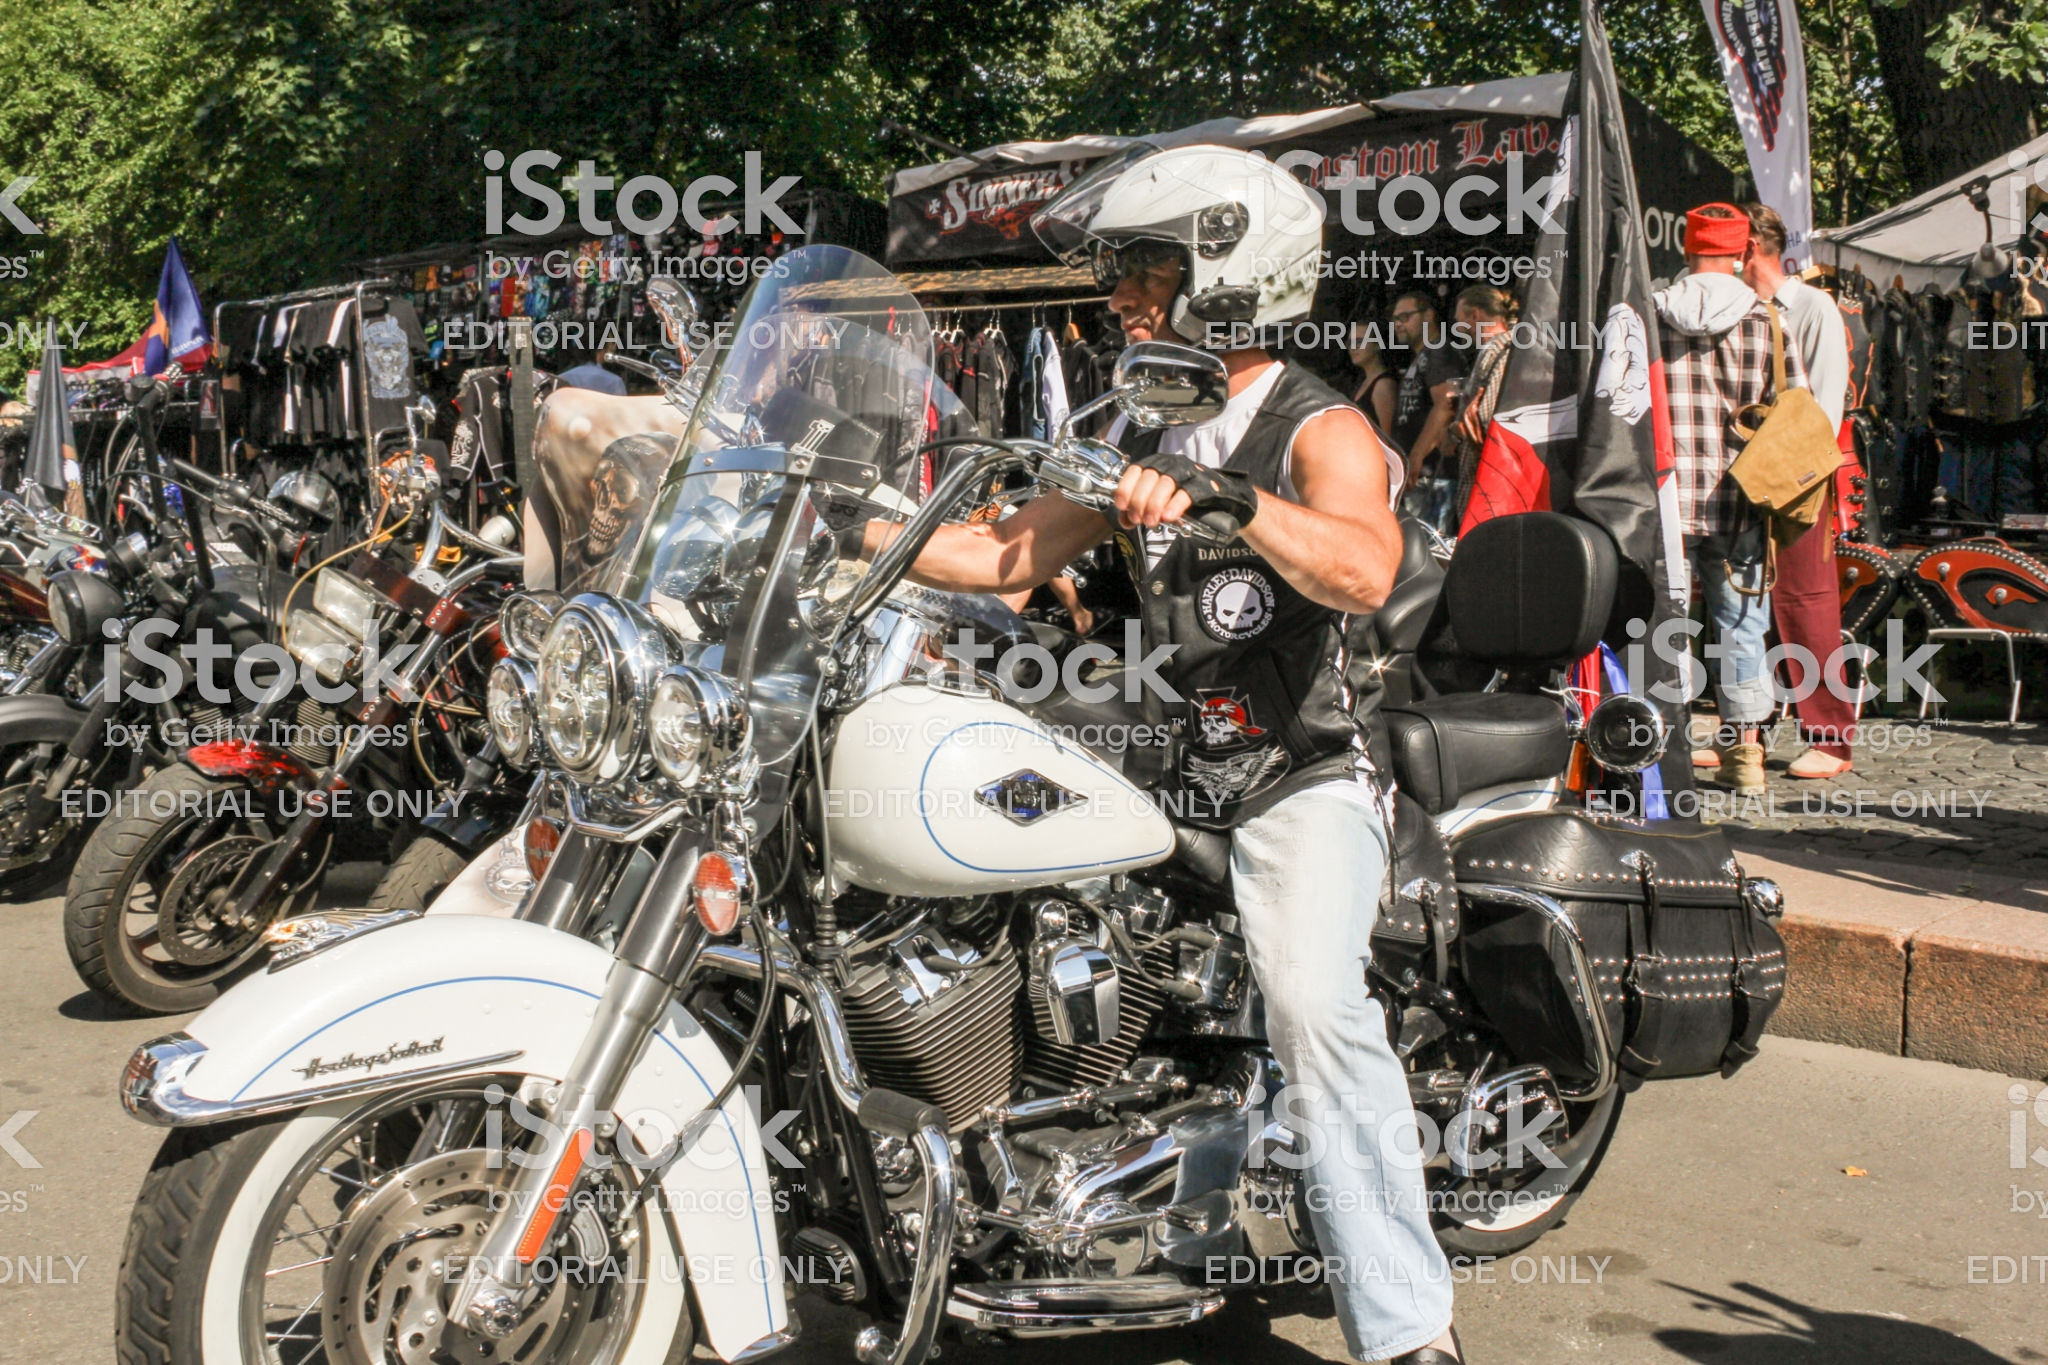helmet: (1070, 140, 1335, 338)
